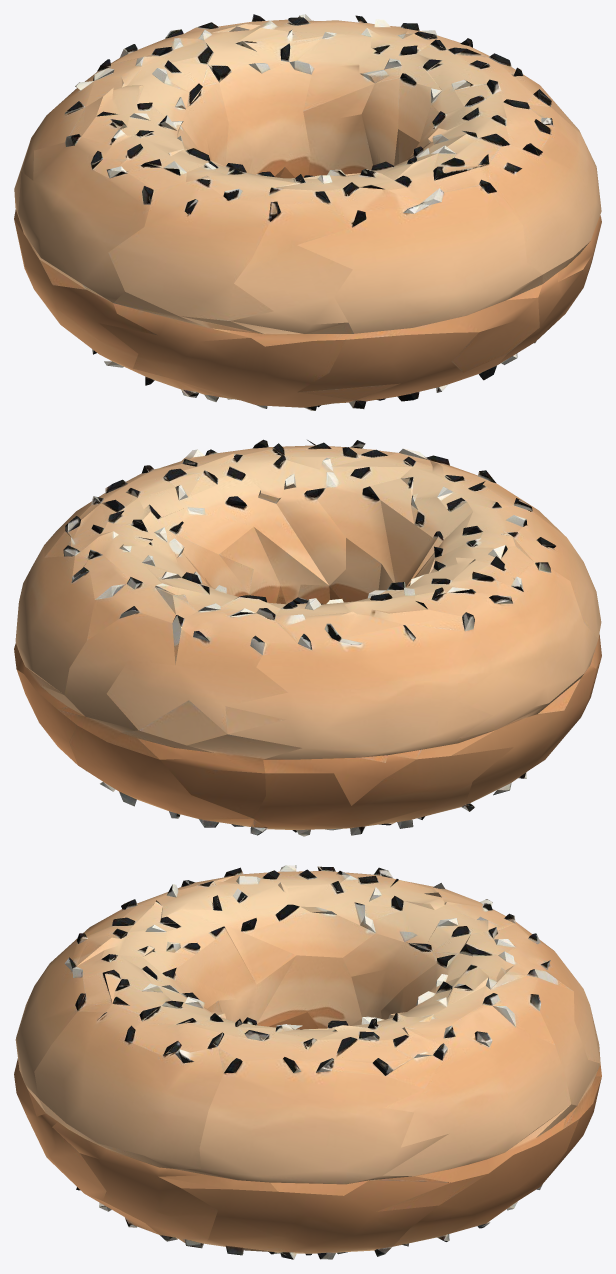
The model's file is ring_sesame.glb.
The picture shows the model from 3 angles, top to bottom: view 1: azimuth 30°, elevation 25°; view 2: azimuth 150°, elevation 25°; view 3: azimuth 270°, elevation 25°; orthographic projection.
Bounding box in the file's own units: 1.89 × 0.7747 × 1.9.
Materials: 1 (1 with a texture image).
